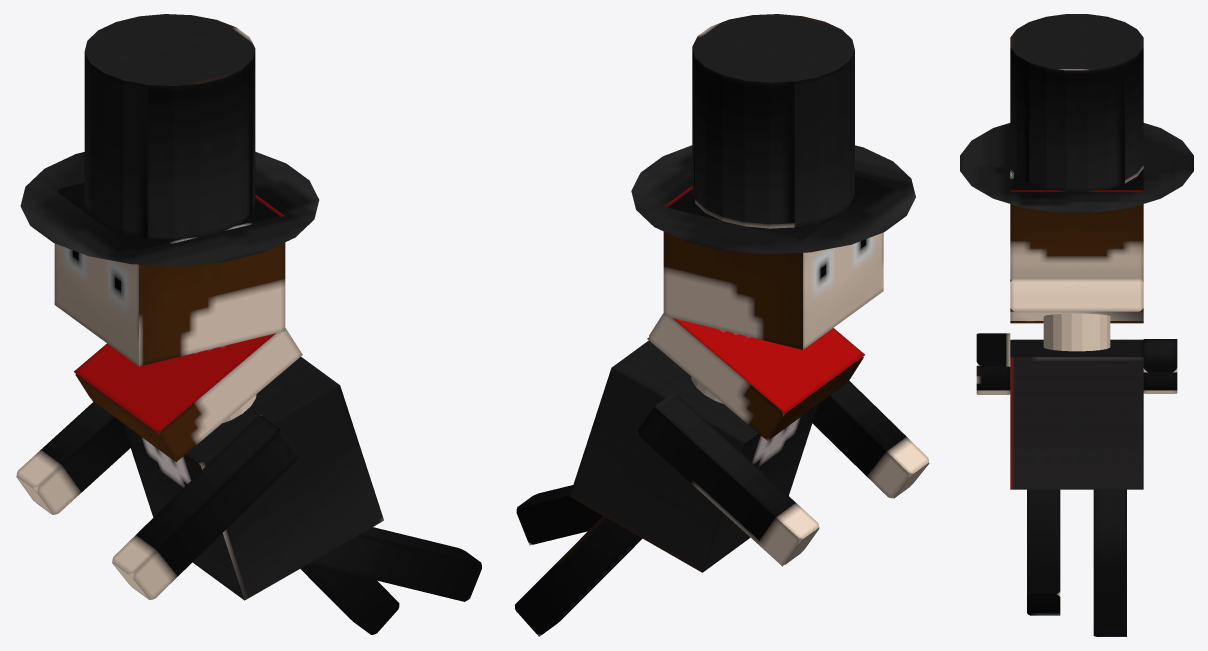
File: noidea.fbx
3 renders of one model, left to right at view 1: azimuth 30°, elevation 25°; view 2: azimuth 150°, elevation 25°; view 3: azimuth 270°, elevation 25°, orthographic. The views are drawn at different scales.
Visible parts, largest first — view 1: circle, mesh_2, mesh, mesh_1, mesh_3, mesh_6, mesh_4, mesh_5; view 2: circle, mesh_2, mesh, mesh_1, mesh_4, mesh_3, mesh_5, mesh_6; view 3: circle, mesh_2, mesh, mesh_1, mesh_5, mesh_6, cylinder, mesh_3, mesh_4.
Boxes of the visible parts, box(x1,y1,x2,y2) form: circle: box(20, 14, 319, 266); mesh_2: box(123, 357, 383, 600); mesh: box(54, 183, 285, 366); mesh_1: box(74, 328, 302, 461); mesh_3: box(112, 414, 301, 599); mesh_6: box(309, 527, 481, 601); mesh_4: box(16, 402, 130, 514); mesh_5: box(300, 564, 399, 634); circle: box(631, 14, 915, 254); mesh_2: box(569, 340, 818, 572); mesh: box(663, 175, 883, 349); mesh_1: box(647, 313, 864, 440); mesh_4: box(636, 392, 819, 566); mesh_3: box(812, 380, 929, 498); mesh_5: box(515, 516, 642, 636); mesh_6: box(516, 485, 602, 545); circle: box(960, 14, 1193, 212); mesh_2: box(1010, 339, 1143, 489); mesh: box(1010, 169, 1143, 281); mesh_1: box(1010, 279, 1143, 323); mesh_5: box(1093, 489, 1126, 636); mesh_6: box(1027, 489, 1060, 615); cylinder: box(1043, 313, 1110, 351); mesh_3: box(976, 333, 1010, 394); mesh_4: box(1143, 339, 1177, 393).
Size of the model in its own units: 35.05 by 52.83 by 21.88.
1 material, 1 textured.
